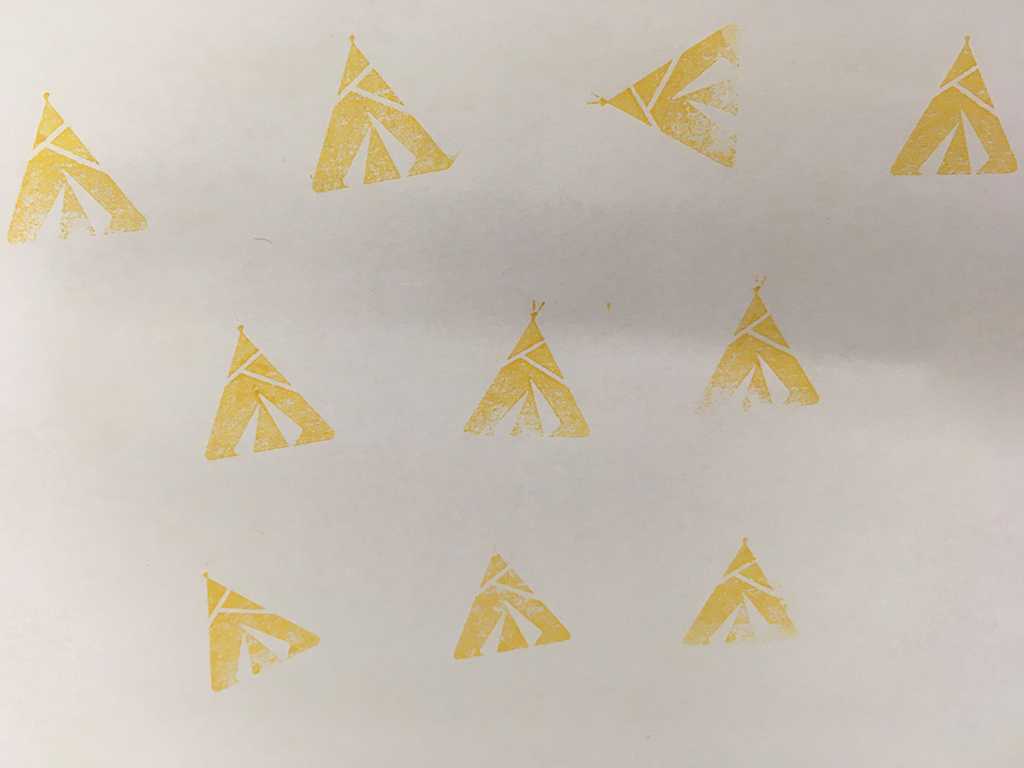tent: (300, 28, 468, 203), (575, 18, 753, 177), (1, 82, 156, 252), (185, 307, 346, 469), (452, 289, 597, 444), (882, 22, 1024, 178), (689, 266, 830, 420), (187, 562, 336, 696), (676, 524, 815, 654), (445, 537, 577, 666)
